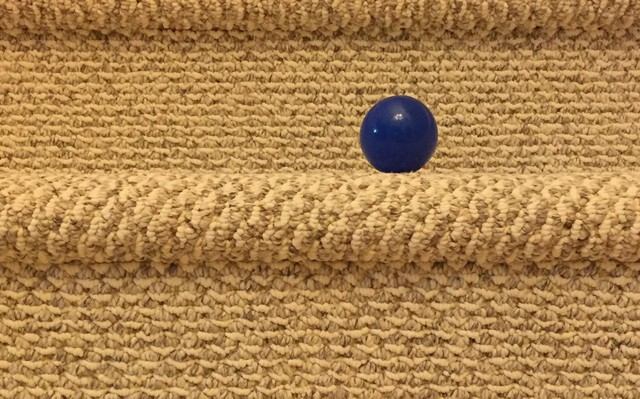Ball: (362, 95, 438, 173)
